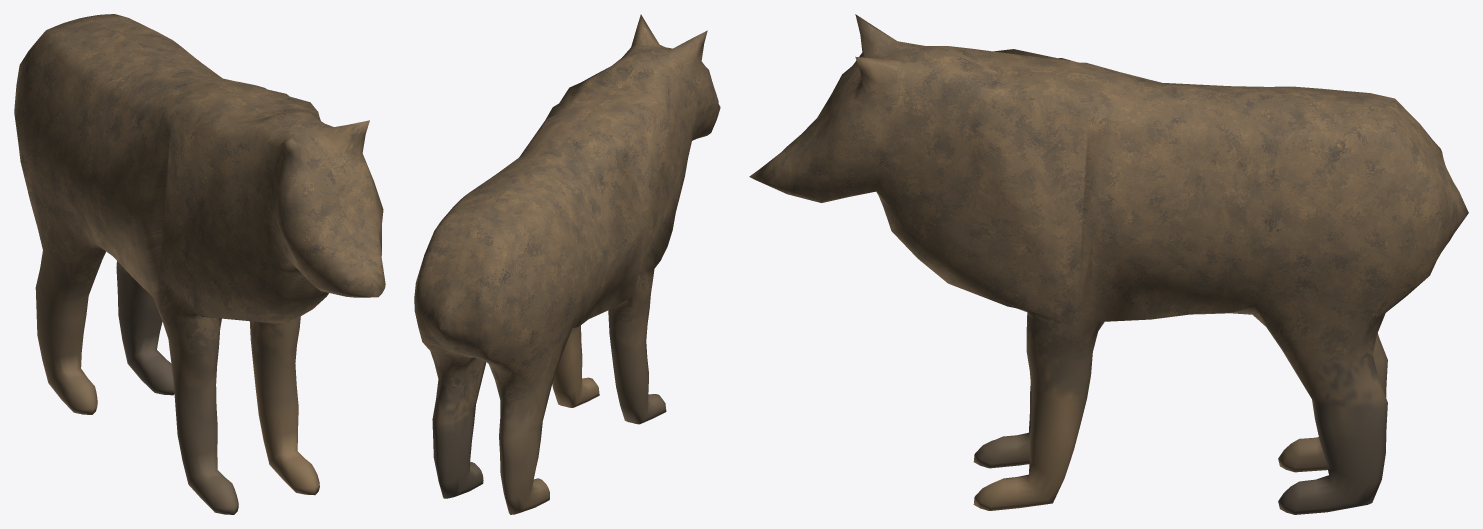
Rendered from piesblend_000040.obj.
3 views of the same model, side by side, from view 1: azimuth 30°, elevation 25°; view 2: azimuth 150°, elevation 25°; view 3: azimuth 270°, elevation 25° (orthographic). The views are drawn at different scales.
Visible parts, largest first — view 1: Cube; view 2: Cube; view 3: Cube.
Boxes of the visible parts, box(x1,y1,x2,y2) form: Cube: box(14, 14, 385, 514); Cube: box(414, 14, 720, 514); Cube: box(749, 14, 1468, 514).
Bounding box in the file's own units: 2.55 × 6.19 × 8.93.
Materials: 1 (1 with a texture image).
